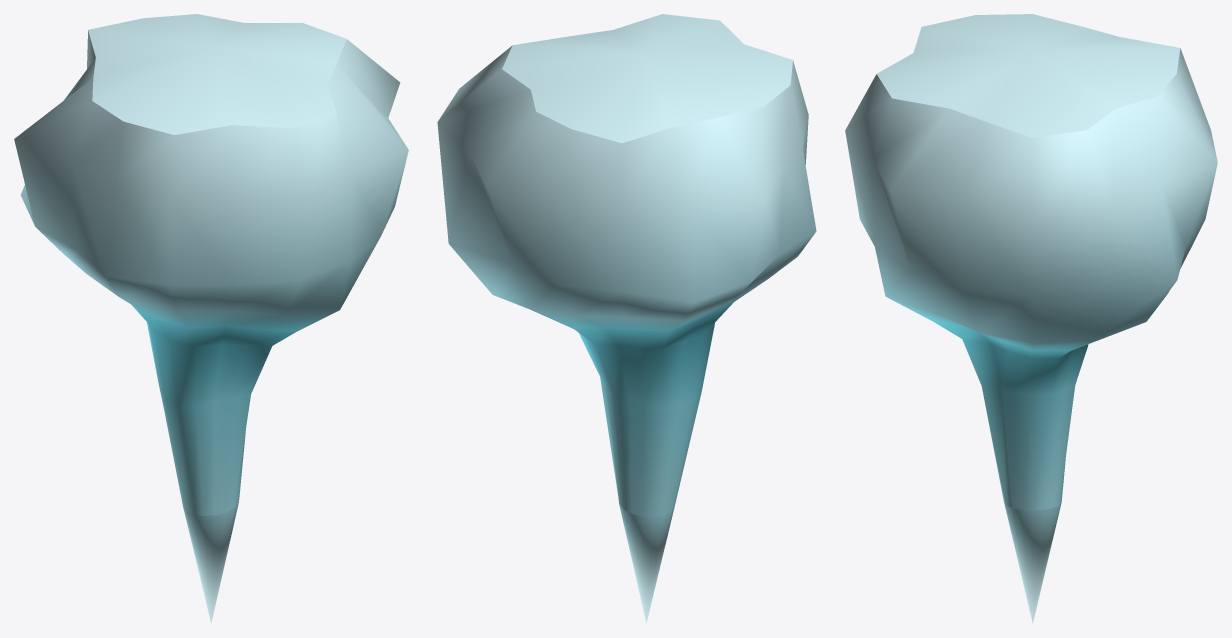
Rendered from Prop_Icicle_C.fbx.
3 renders of one model, left to right at view 1: azimuth 30°, elevation 25°; view 2: azimuth 150°, elevation 25°; view 3: azimuth 270°, elevation 25°, orthographic.
Parts seen in each view (by area): view 1: Prop_Icicle_C; view 2: Prop_Icicle_C; view 3: Prop_Icicle_C.
Boxes of the visible parts, x1,y1,x2,y2 form: Prop_Icicle_C: [14, 14, 408, 623]; Prop_Icicle_C: [437, 14, 816, 623]; Prop_Icicle_C: [845, 14, 1217, 623].
Bounding box in the file's own units: 33.77 × 53.49 × 31.37.
Materials: 1 (1 with a texture image).
